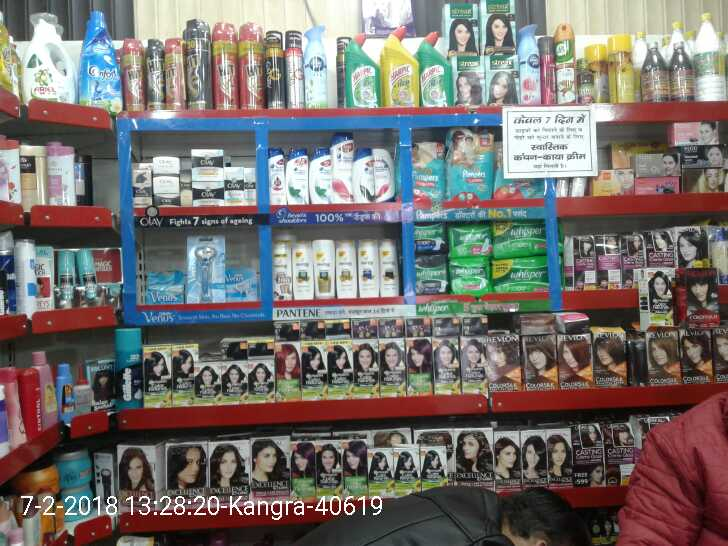ambipureVesus: (302, 22, 329, 107), (519, 24, 540, 103)
gillete: (114, 328, 142, 409)
venus: (186, 231, 228, 298), (144, 275, 186, 304), (228, 264, 260, 298)
